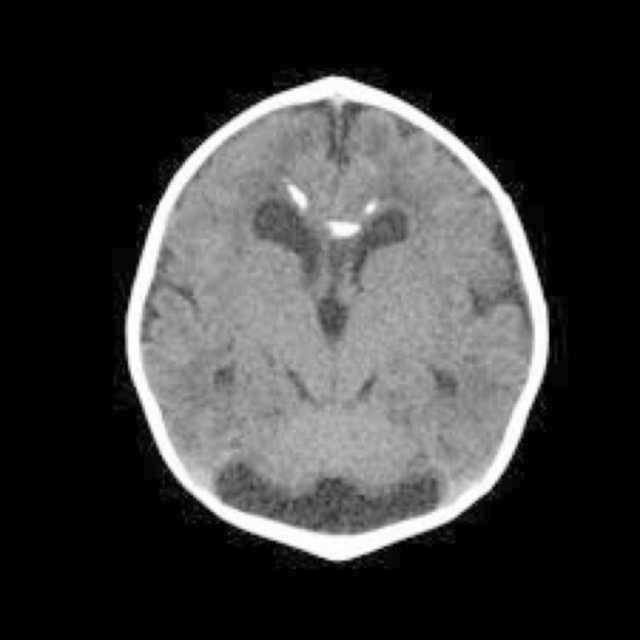glioma tumor: (193, 145, 470, 504)
